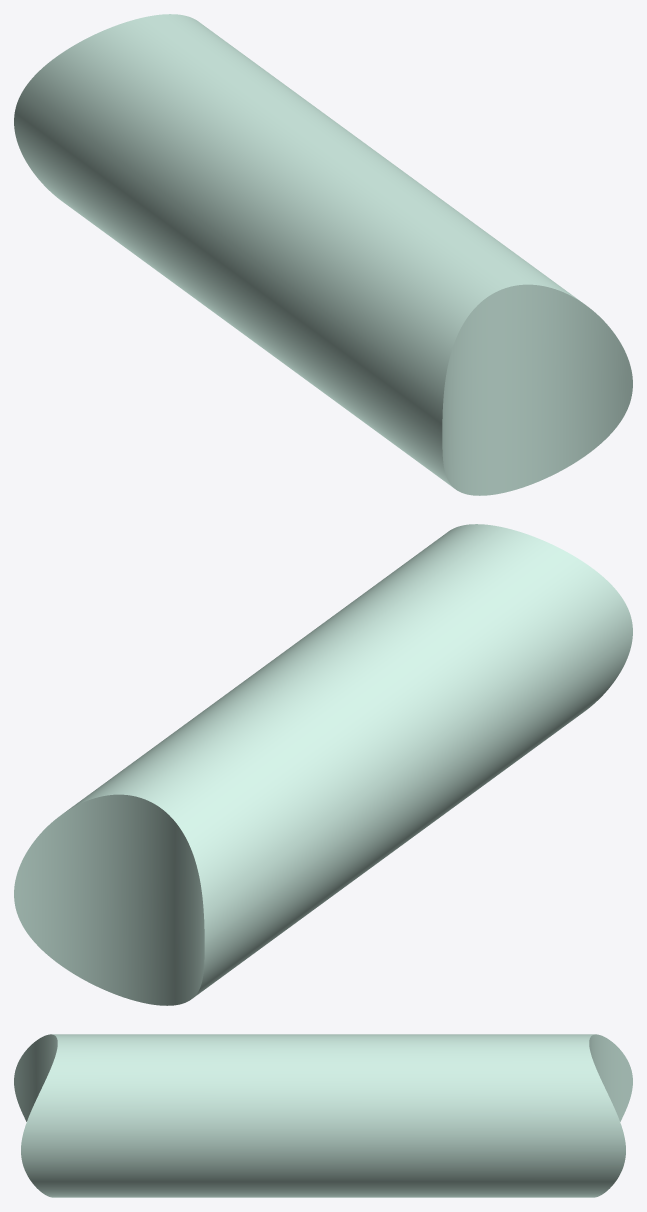
3 views of the same model, one above another, from view 1: azimuth 30°, elevation 25°; view 2: azimuth 150°, elevation 25°; view 3: azimuth 270°, elevation 25° (orthographic). The views are drawn at different scales.
Parts seen in each view (by area): view 1: Renderer Node; view 2: Renderer Node; view 3: Renderer Node.
Boxes of the visible parts, bbox=[...] form: Renderer Node: bbox=[14, 14, 632, 495]; Renderer Node: bbox=[14, 524, 632, 1005]; Renderer Node: bbox=[14, 1034, 632, 1197].
Size of the model in its own units: 0.1816 by 0.1816 by 0.6889.
